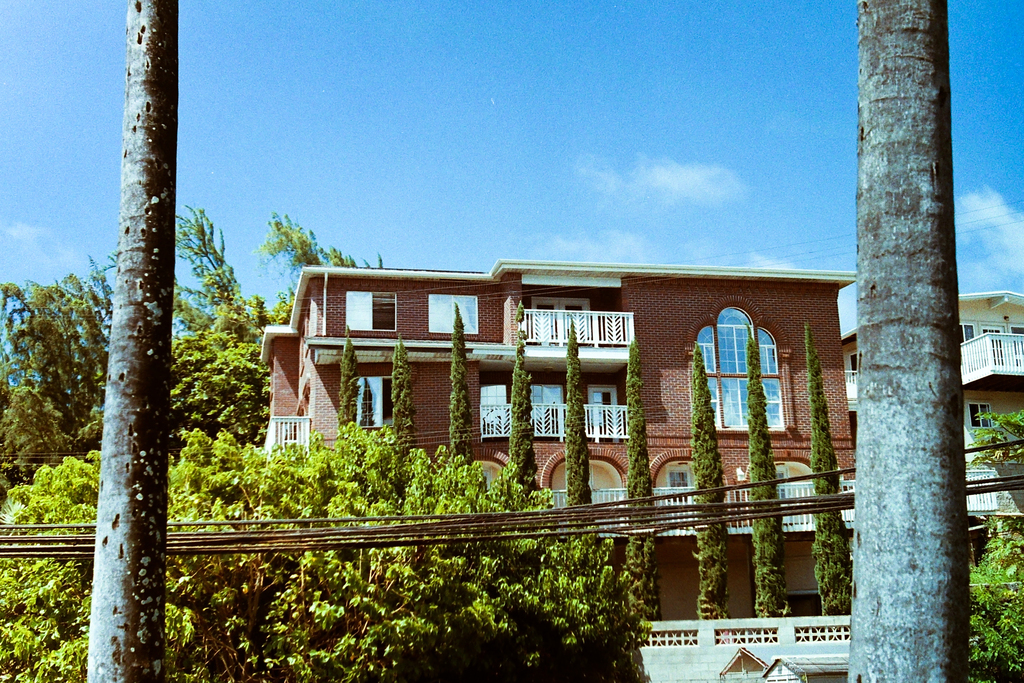Tree: (5, 208, 1023, 682), (838, 0, 970, 681), (87, 0, 183, 682), (803, 324, 864, 628), (617, 335, 666, 624), (744, 339, 783, 632), (695, 342, 730, 632), (503, 293, 541, 492), (566, 313, 600, 532), (448, 294, 477, 467), (387, 330, 419, 451), (344, 344, 357, 424)
